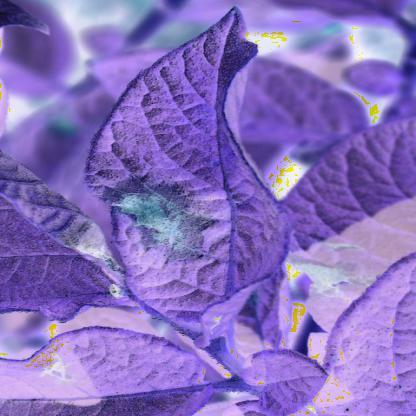Potato leaf late blight: (81, 6, 297, 340)
